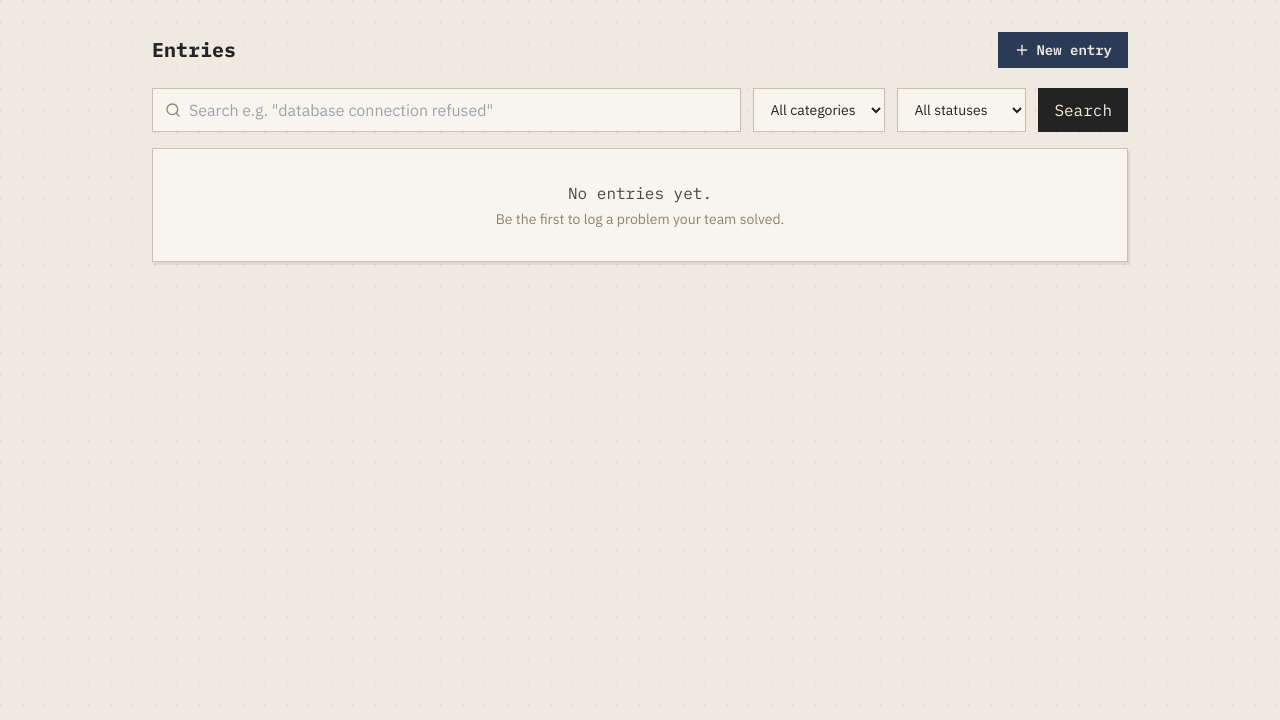
Scenario: dashboard loading states › opens and cancels the new entry form
Expected: the text "No entries yet." is shown, [568, 183, 712, 203]
Click the button "New entry" at (1063, 50), box [998, 32, 1128, 68]
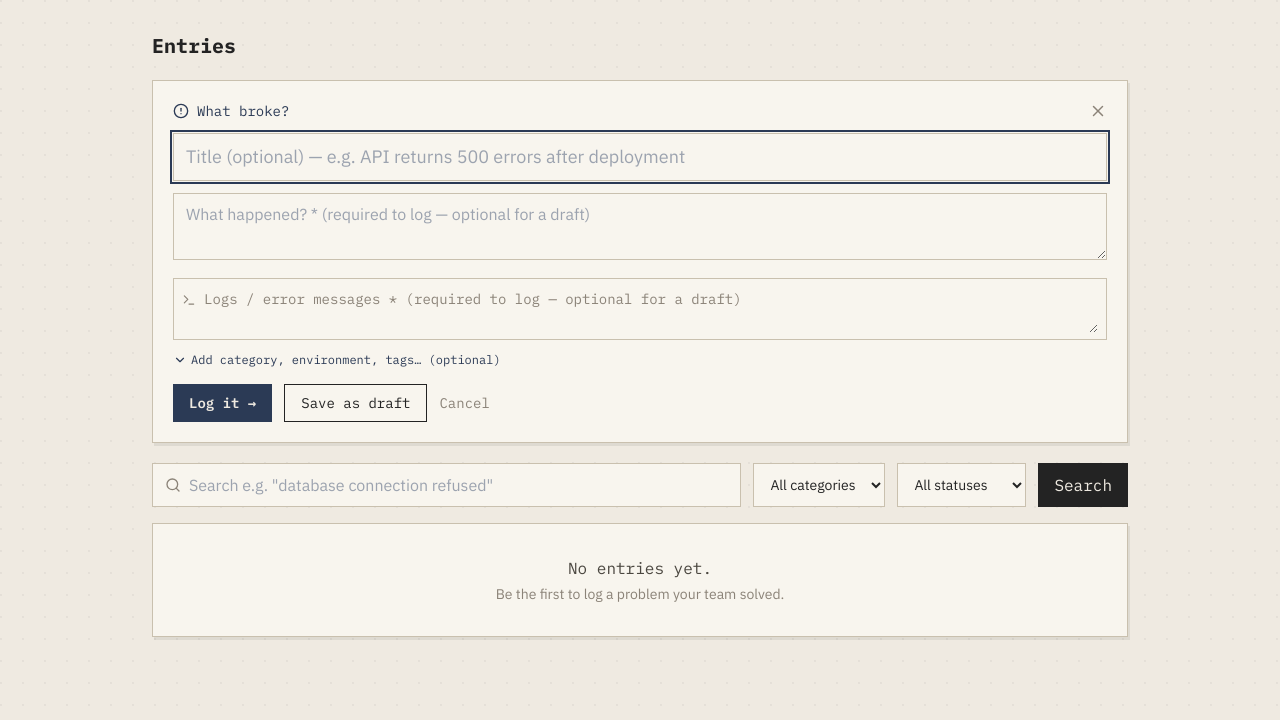
Now the text "What broke?" is shown, box [173, 101, 289, 121]
Click the button "Cancel" at (465, 403), box [439, 384, 490, 422]
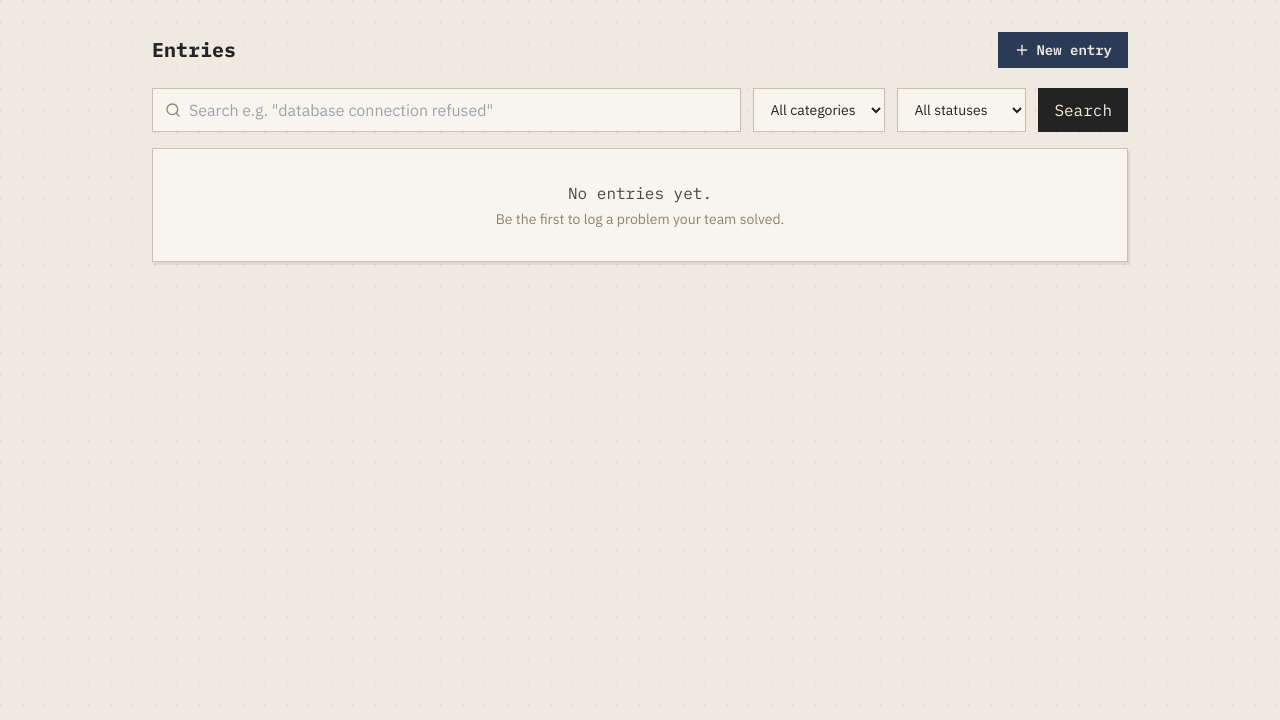
Now the text "What broke?" is gone
